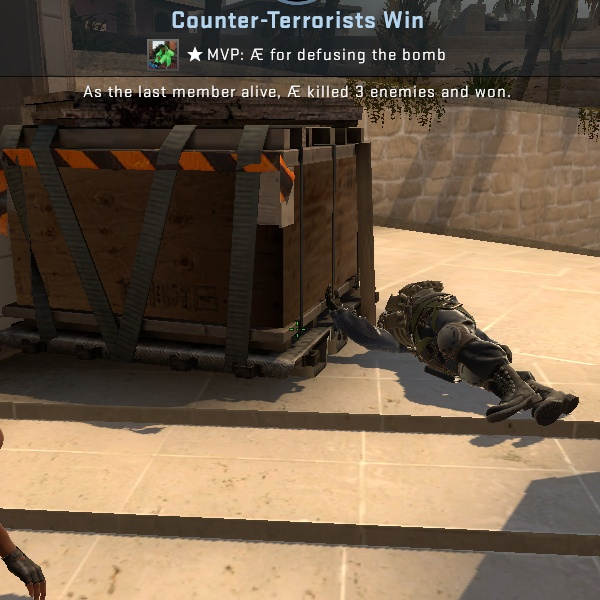t_body: (313, 268, 368, 363)
